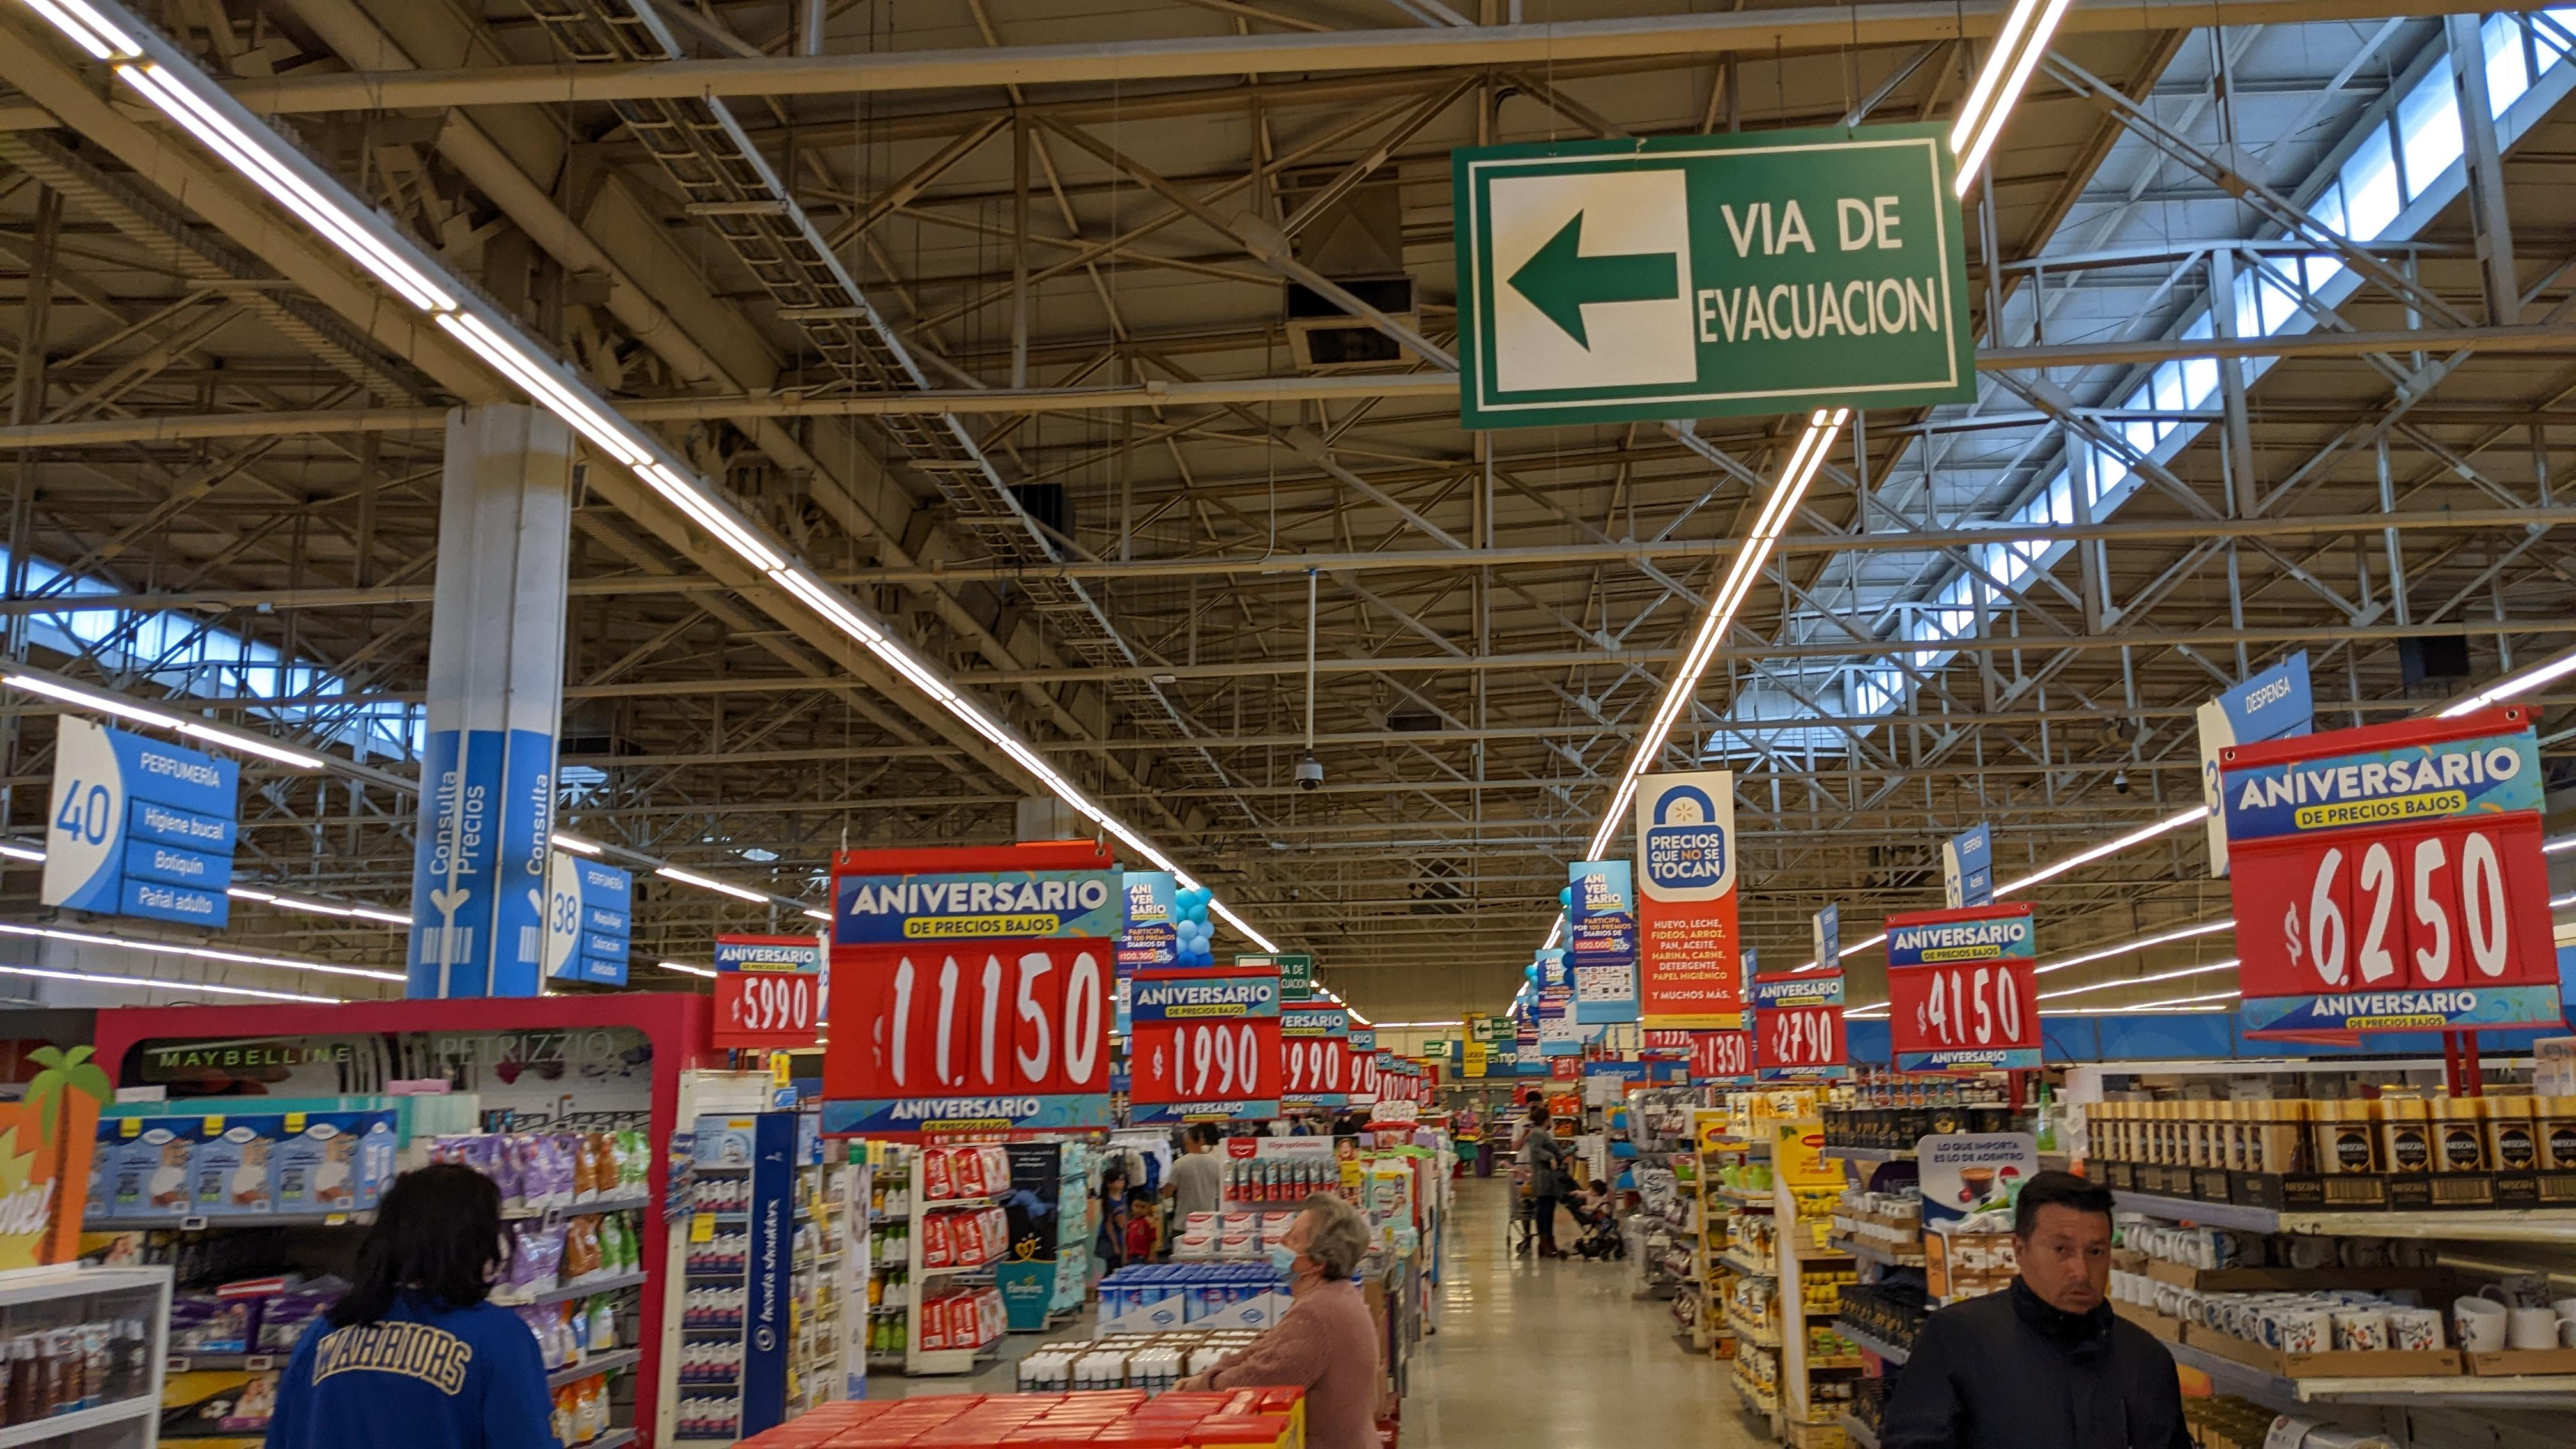emergency left arrow: (1506, 205, 1684, 359)
